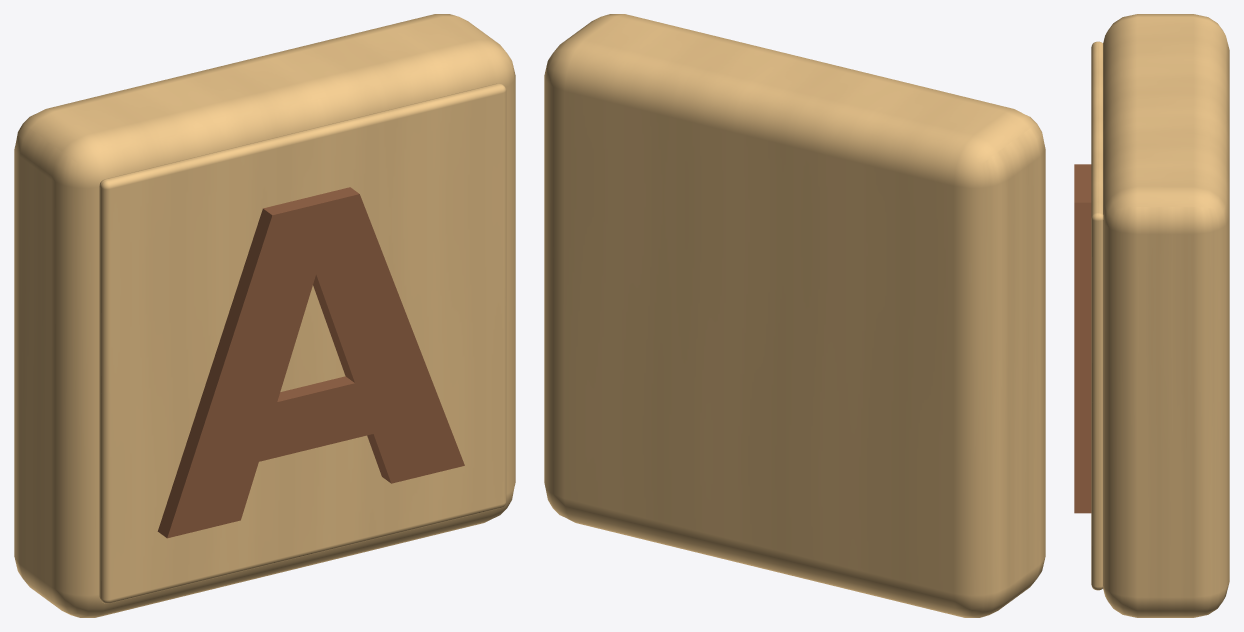
3 views of the same model, side by side, from view 1: azimuth 30°, elevation 25°; view 2: azimuth 150°, elevation 25°; view 3: azimuth 270°, elevation 25° (orthographic). The views are drawn at different scales.
Visible parts, largest first — view 1: Tile_A; view 2: Tile_A; view 3: Tile_A.
Boxes of the visible parts, x1,y1,x2,y2 form: Tile_A: [14, 14, 515, 617]; Tile_A: [544, 14, 1045, 617]; Tile_A: [1074, 14, 1229, 617].
Size of the model in its own units: 0.21 by 0.21 by 0.069.
Materials: 2 (1 with a texture image).
